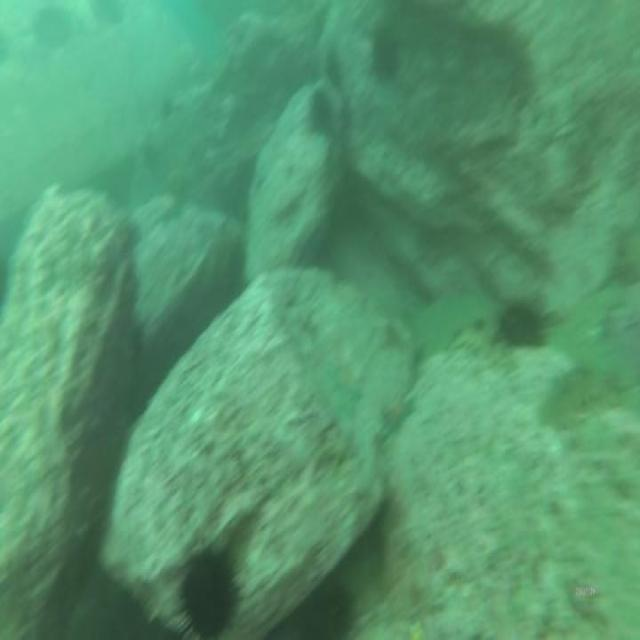echinus: (178, 540, 239, 638), (497, 294, 545, 352), (367, 33, 403, 84), (309, 87, 335, 136)
